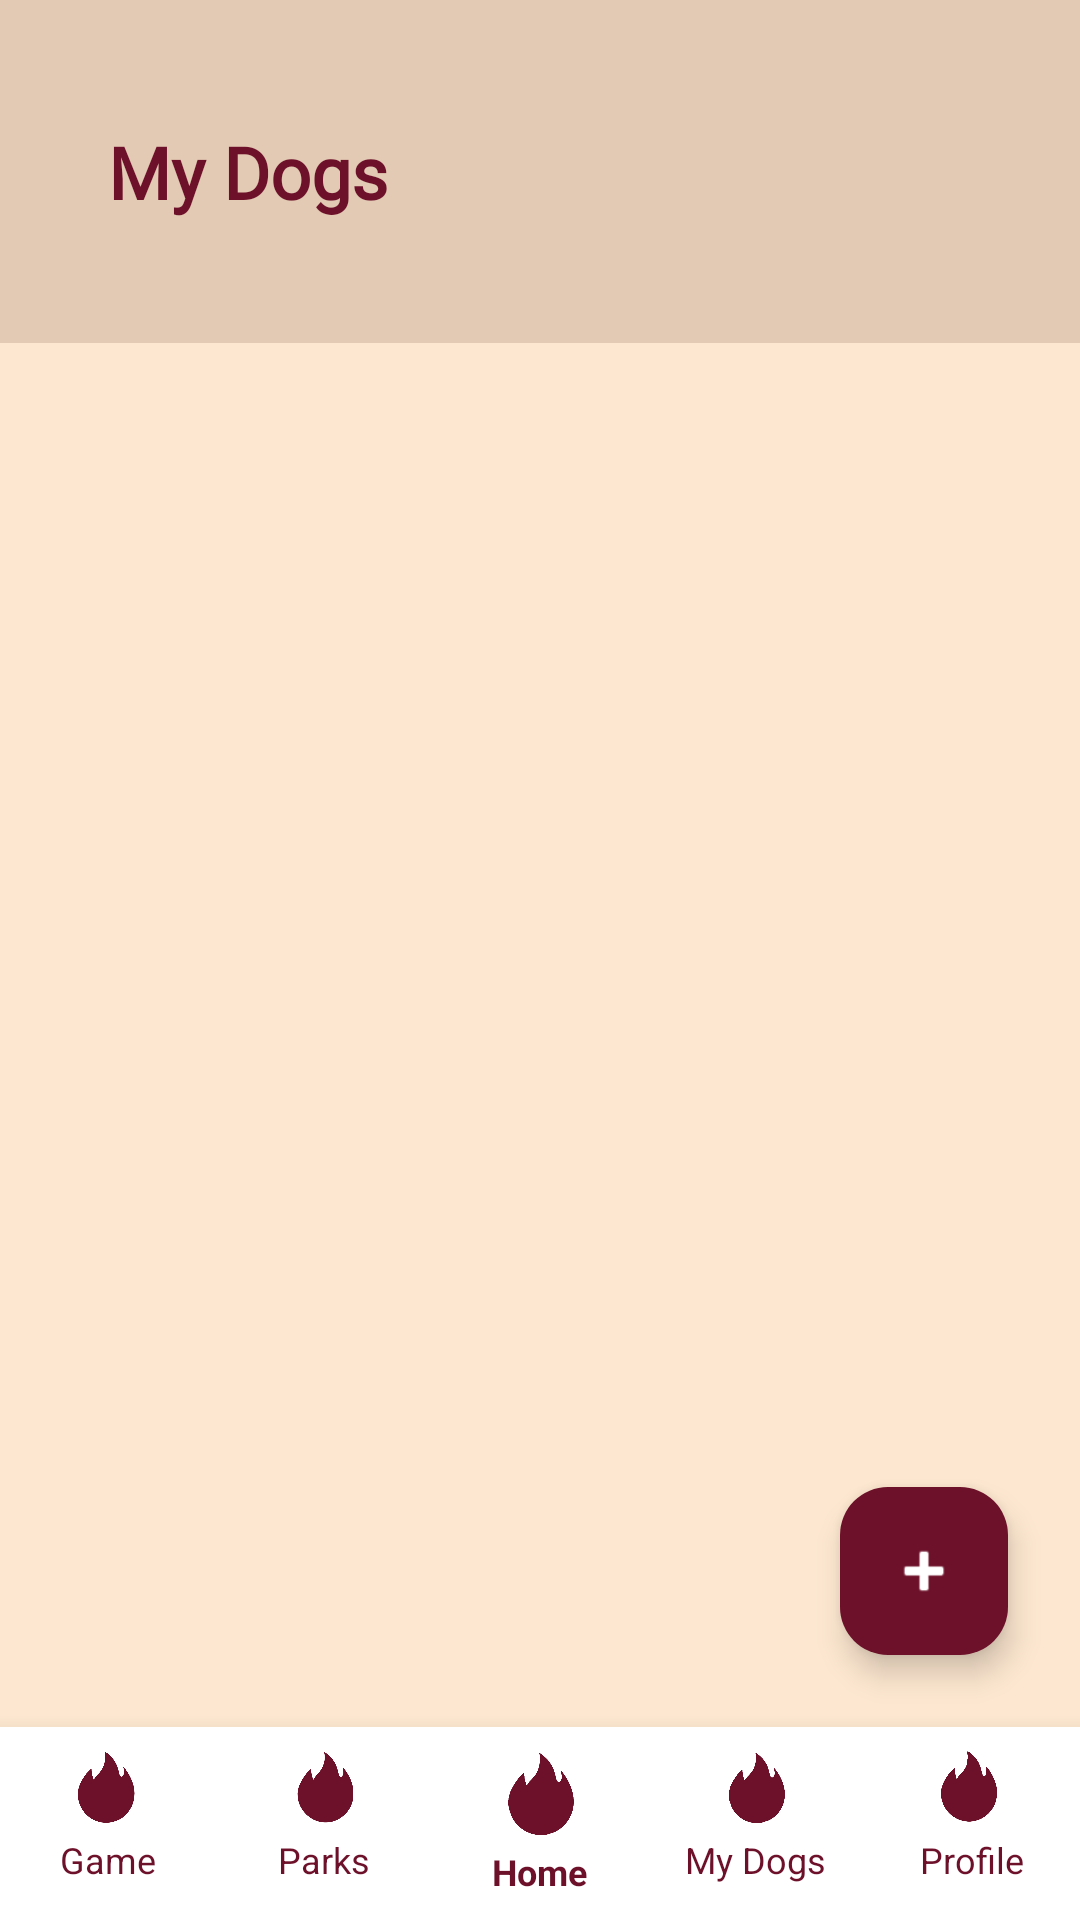

Named icons in this screenshot (1080 × 1920) and their bounding boxes, (x1, y1, x2, y2):
Add New Dog: (840, 1487, 1008, 1655)
